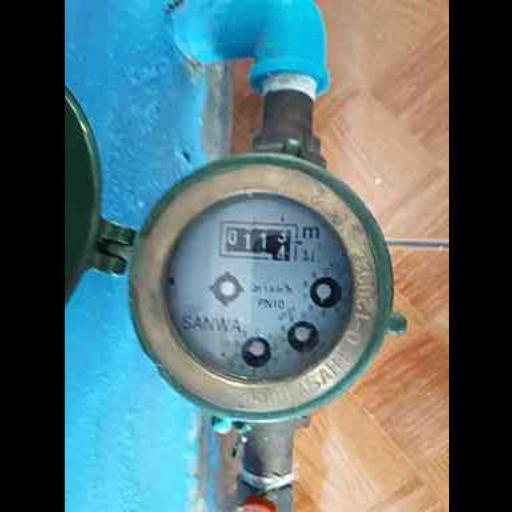0: (225, 227, 242, 252)
1: (255, 229, 273, 254), (241, 228, 256, 252)
3: (272, 229, 290, 261)
border_water_meter_number: (218, 221, 299, 262)
